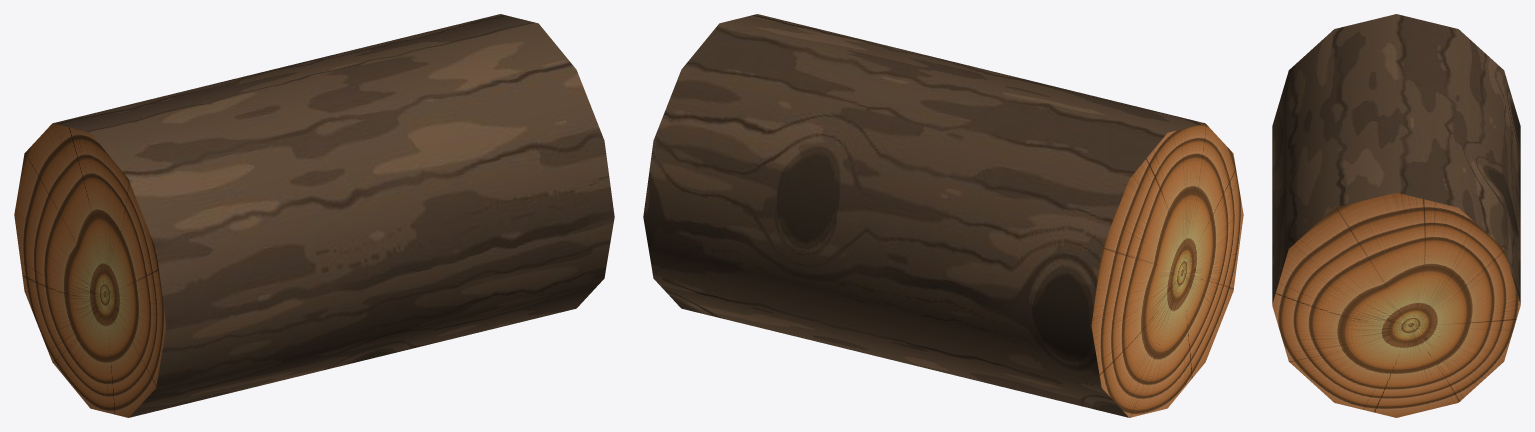
File: Log.001.fbx
3 views of the same model, side by side, from view 1: azimuth 30°, elevation 25°; view 2: azimuth 150°, elevation 25°; view 3: azimuth 270°, elevation 25° (orthographic). The views are drawn at different scales.
Visible parts, largest first — view 1: Log; view 2: Log; view 3: Log.
Boxes of the visible parts, x1,y1,x2,y2 form: Log: (14,14,614,417); Log: (643,14,1243,417); Log: (1272,14,1520,417).
Bounding box in the file's own units: 2.04 × 1.2 × 1.2.
